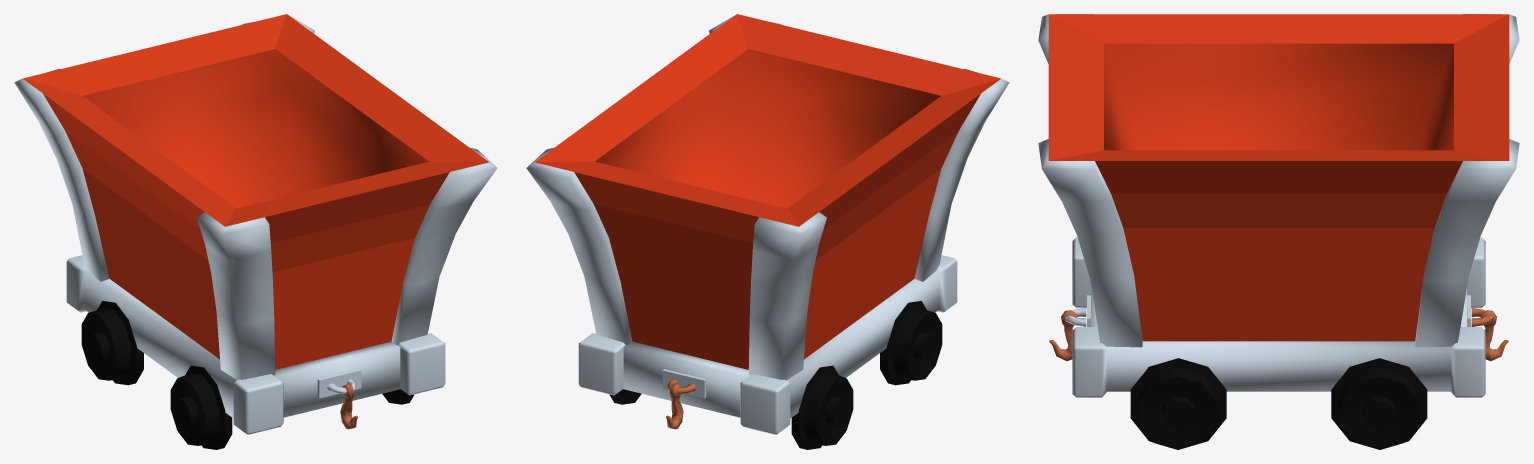
File: TrenzinhonNovo.fbx
The picture shows the model from 3 angles, left to right: view 1: azimuth 30°, elevation 25°; view 2: azimuth 150°, elevation 25°; view 3: azimuth 270°, elevation 25°; orthographic projection. The views are drawn at different scales.
Parts seen in each view (by area): view 1: BaseCaminhaozinho; view 2: BaseCaminhaozinho; view 3: BaseCaminhaozinho.
Part boxes in pixels (bbox=[...]): BaseCaminhaozinho: bbox=[14, 14, 497, 449]; BaseCaminhaozinho: bbox=[526, 14, 1009, 449]; BaseCaminhaozinho: bbox=[1038, 14, 1519, 449].
Bounding box in the file's own units: 32.39 × 30.01 × 42.39.
1 material, 1 textured.
